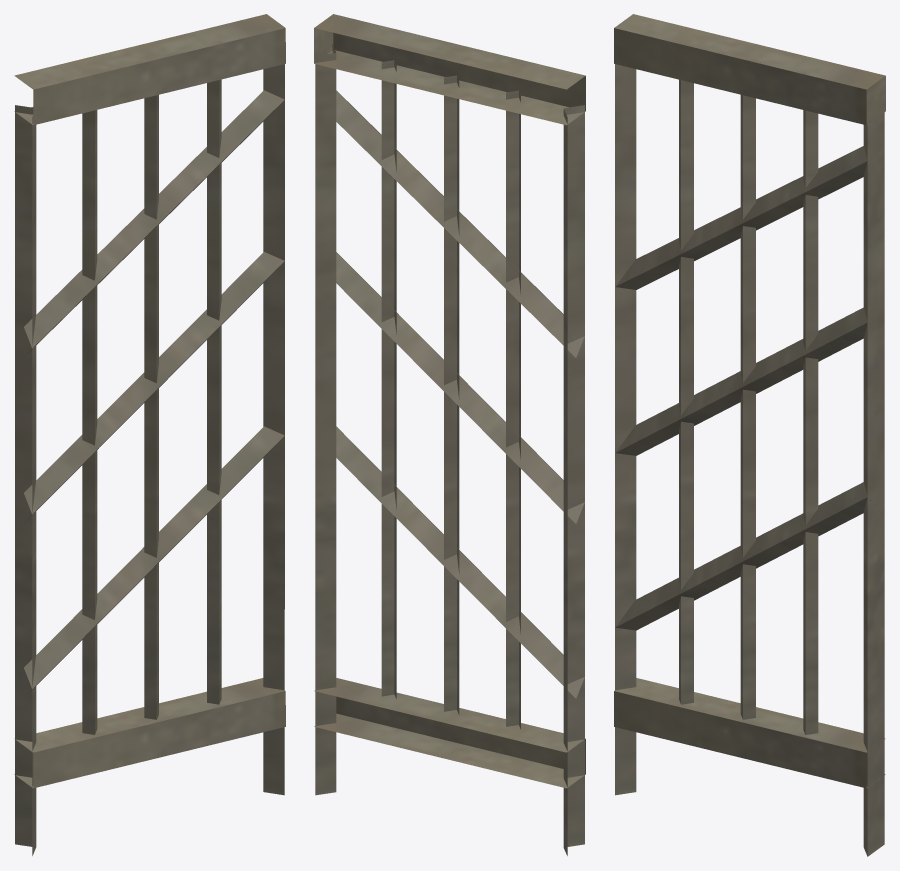
The model's file is GradesPredio15mTile_Meio2PortaoEsq.FBX.
The picture shows the model from 3 angles, left to right: view 1: azimuth 30°, elevation 25°; view 2: azimuth 150°, elevation 25°; view 3: azimuth 330°, elevation 25°; orthographic projection.
Parts seen in each view (by area): view 1: GradesPredio15mTile_Meio2PortaoEsq; view 2: GradesPredio15mTile_Meio2PortaoEsq; view 3: GradesPredio15mTile_Meio2PortaoEsq.
Boxes of the visible parts, left/top/right/bottom form: GradesPredio15mTile_Meio2PortaoEsq: left=14, top=14, right=285, bottom=855; GradesPredio15mTile_Meio2PortaoEsq: left=314, top=14, right=585, bottom=855; GradesPredio15mTile_Meio2PortaoEsq: left=614, top=14, right=885, bottom=856.
Bounding box in the file's own units: 100 × 291 × 13.14.
1 material, 1 textured.
